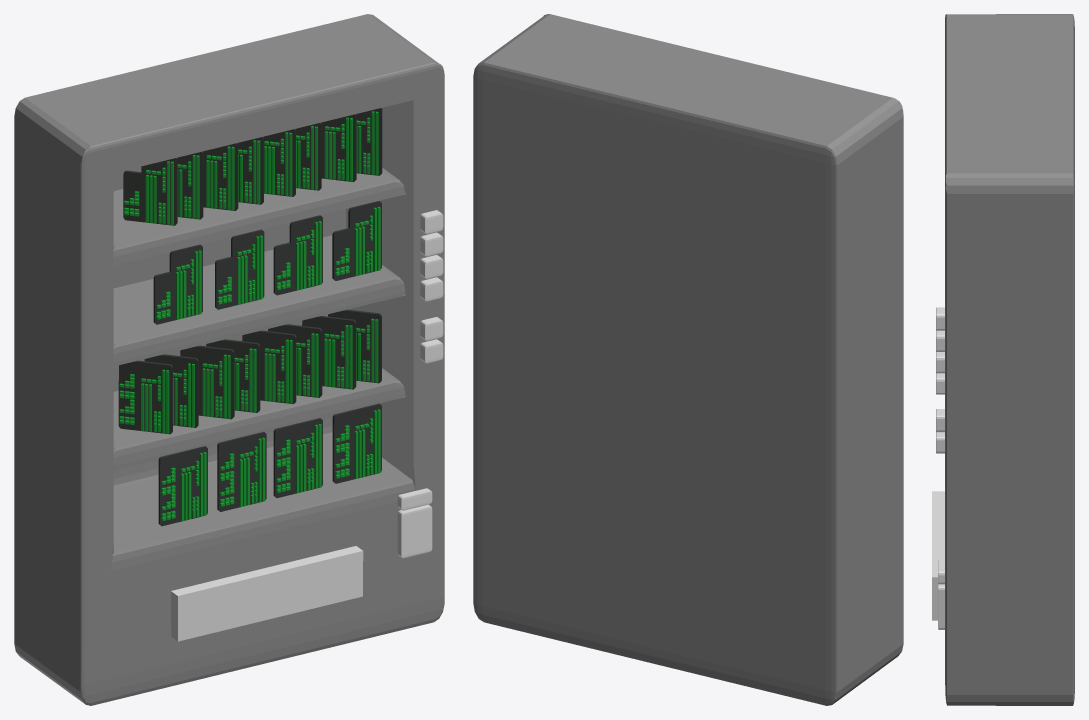
The model's file is otomat2 1.fbx.
3 views of the same model, side by side, from view 1: azimuth 30°, elevation 25°; view 2: azimuth 150°, elevation 25°; view 3: azimuth 270°, elevation 25° (orthographic). The views are drawn at different scales.
Parts seen in each view (by area): view 1: Cube.001, Cube.021, Cube.027, Cube.003, Cube.016, Cube.026, Cube.015, Cube.018, Cube.014, Cube.011, Cube.008, Cube.009 (+7 smaller); view 2: Cube.001; view 3: Cube.001, Cube.003, Cube.005, Cube.004.
Part boxes in pixels (x1,y1,x2,y2): Cube.001: (14, 14, 444, 705); Cube.021: (113, 100, 413, 553); Cube.027: (123, 108, 382, 225); Cube.003: (171, 546, 363, 641); Cube.016: (124, 111, 378, 225); Cube.026: (118, 316, 356, 434); Cube.015: (119, 325, 352, 433); Cube.018: (144, 309, 381, 427); Cube.014: (173, 318, 378, 427); Cube.011: (158, 446, 207, 526); Cube.008: (332, 403, 381, 483); Cube.009: (273, 418, 322, 498); Cube.001: (473, 14, 903, 705); Cube.001: (945, 14, 1074, 705); Cube.003: (932, 491, 944, 620); Cube.005: (936, 307, 944, 453); Cube.004: (938, 559, 944, 629).
Size of the model in its own units: 395 by 581 by 141.
